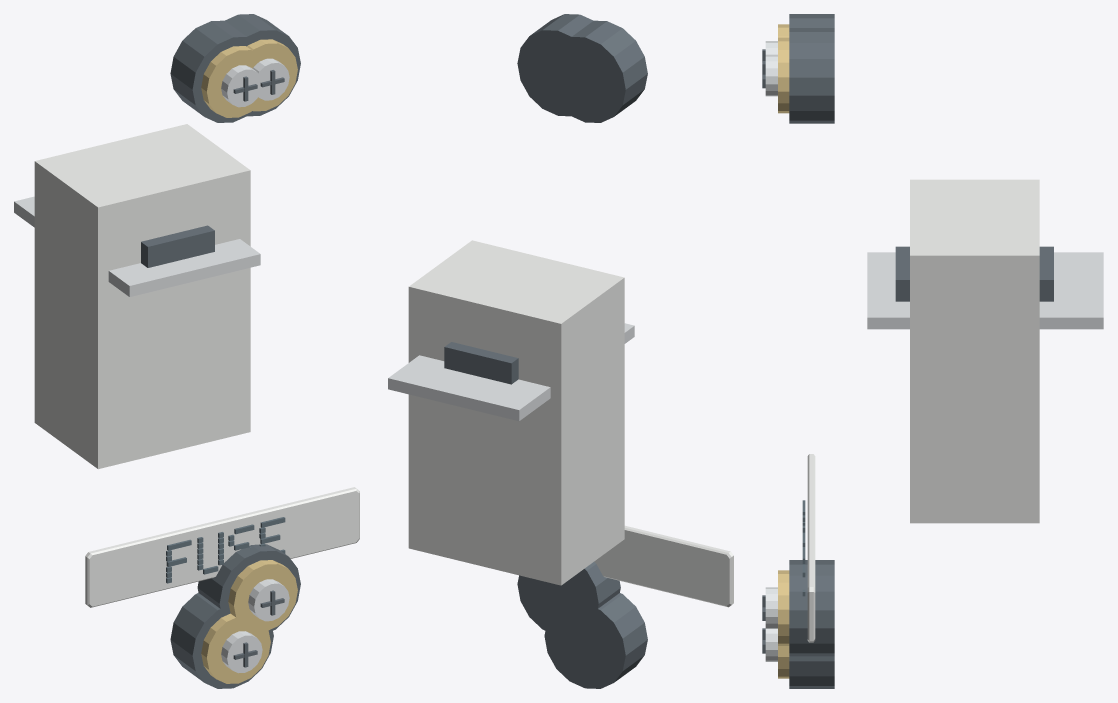
The model's file is fuse.glb.
The picture shows the model from 3 angles, left to right: view 1: azimuth 30°, elevation 25°; view 2: azimuth 150°, elevation 25°; view 3: azimuth 270°, elevation 25°; orthographic projection. The views are drawn at different scales.
Parts seen in each view (by area): view 1: fuse-preview; view 2: fuse-preview; view 3: fuse-preview.
Boxes of the visible parts, box(x1,y1,x2,y2) form: fuse-preview: box(14, 14, 359, 688); fuse-preview: box(388, 14, 733, 688); fuse-preview: box(762, 14, 1103, 688).
Size of the model in its own units: 1.05 by 2.4 by 1.11.
